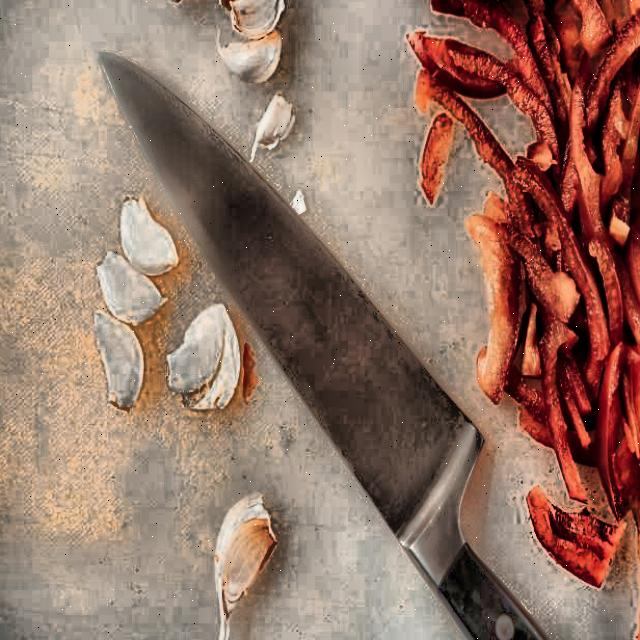knife: (96, 51, 566, 640)
